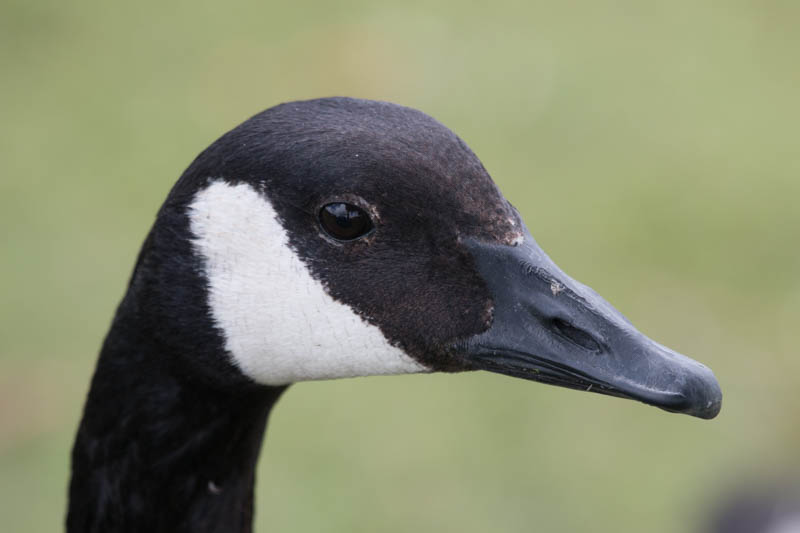goose-head: (108, 96, 724, 421)
